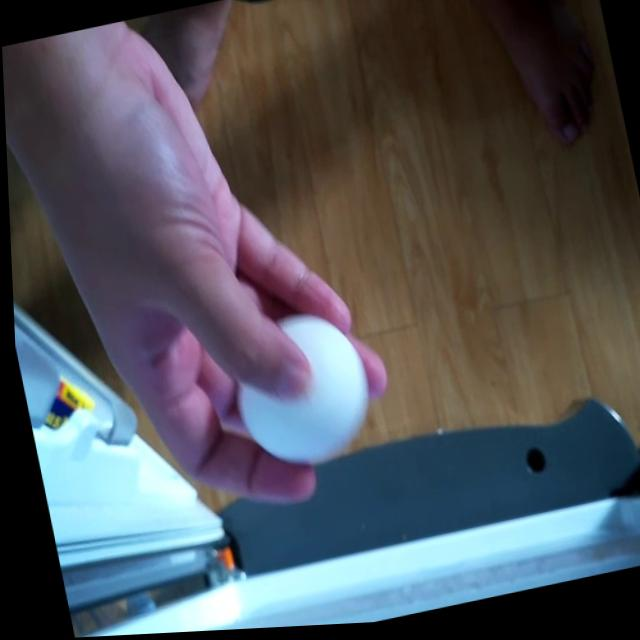egg: (214, 298, 383, 483)
